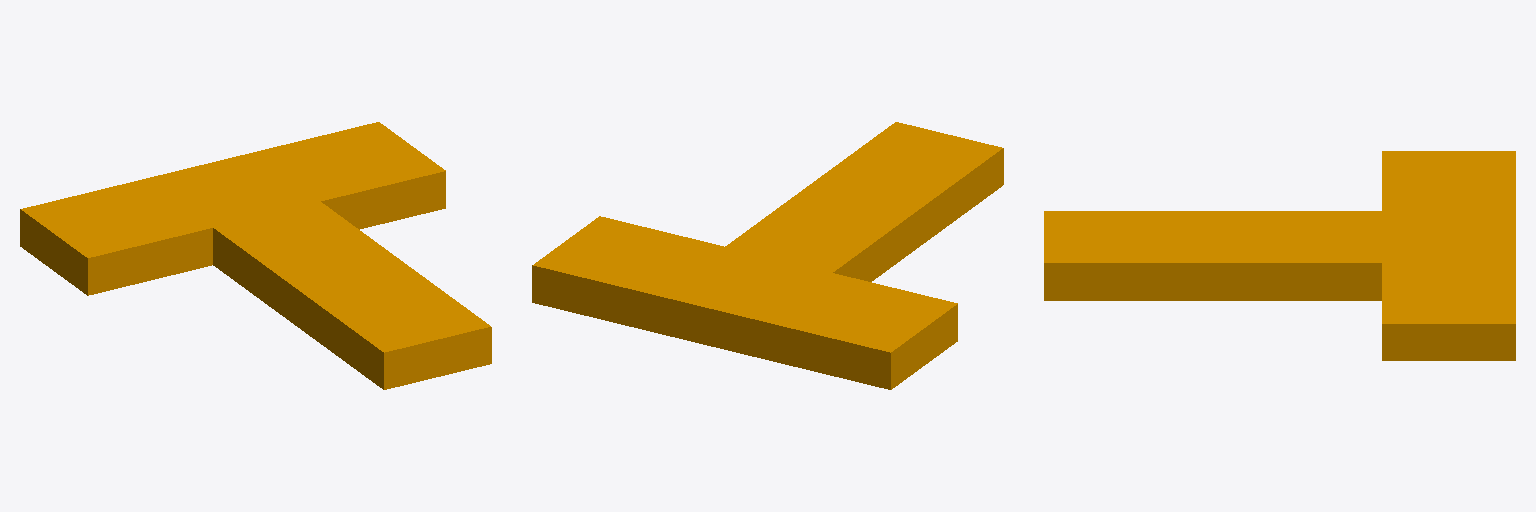
robot.urdf — shape:
<?xml version="1.0" ?>
<robot name="shape">
  <link name="shape3">
    <visual>
      <origin rpy="0 0 0" xyz="0 0 0"/>
      <geometry>
        <mesh scale="0.001 0.001 0.001" filename="package://core/stl/t.stl"/>
      </geometry>
    </visual>
  </link>
</robot>

--- Render facts (derived) ---
3 views of the same robot in one strip: view 1: azimuth 30°, elevation 25°; view 2: azimuth 150°, elevation 25°; view 3: azimuth 270°, elevation 25° (orthographic).
Model shape with 1 links and 0 joints (none), rooted at shape3, posed all joints at 0.
Links seen in each view (by area): view 1: shape3; view 2: shape3; view 3: shape3.
Link boxes in pixels (x1,y1,x2,y2): shape3: [20, 122, 491, 389]; shape3: [532, 122, 1003, 389]; shape3: [1044, 151, 1515, 360].
Size in the robot's own frame: 0.1 by 0.115 by 0.01 metres.
1 mesh visuals loaded from 1 distinct referenced files (1 binary STL).